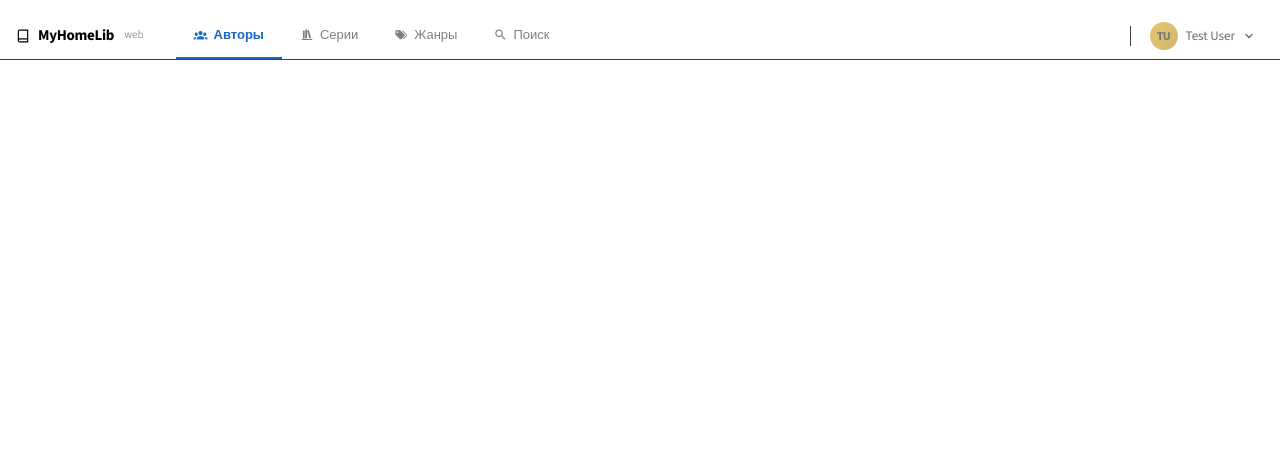
Test: CatalogHeader › menu contains settings and logout items
Click the button with class "catalog-header__user-btn" at {"x": 1204, "y": 36}, box [1144, 16, 1264, 54]
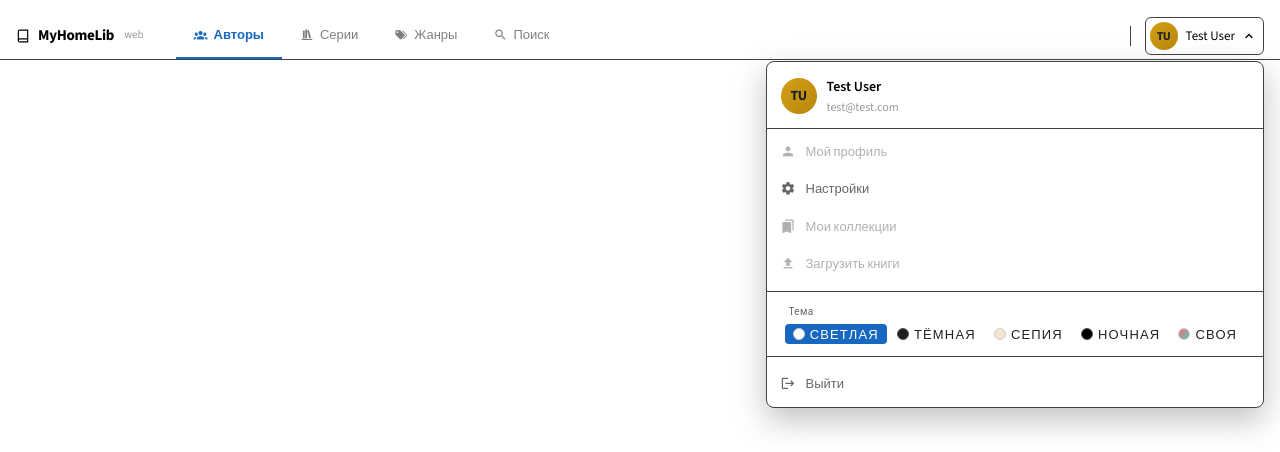
Check: the text "Настройки" is shown, box [766, 170, 1263, 208]
Check: the text "Выйти" is shown, box [766, 365, 1263, 403]
